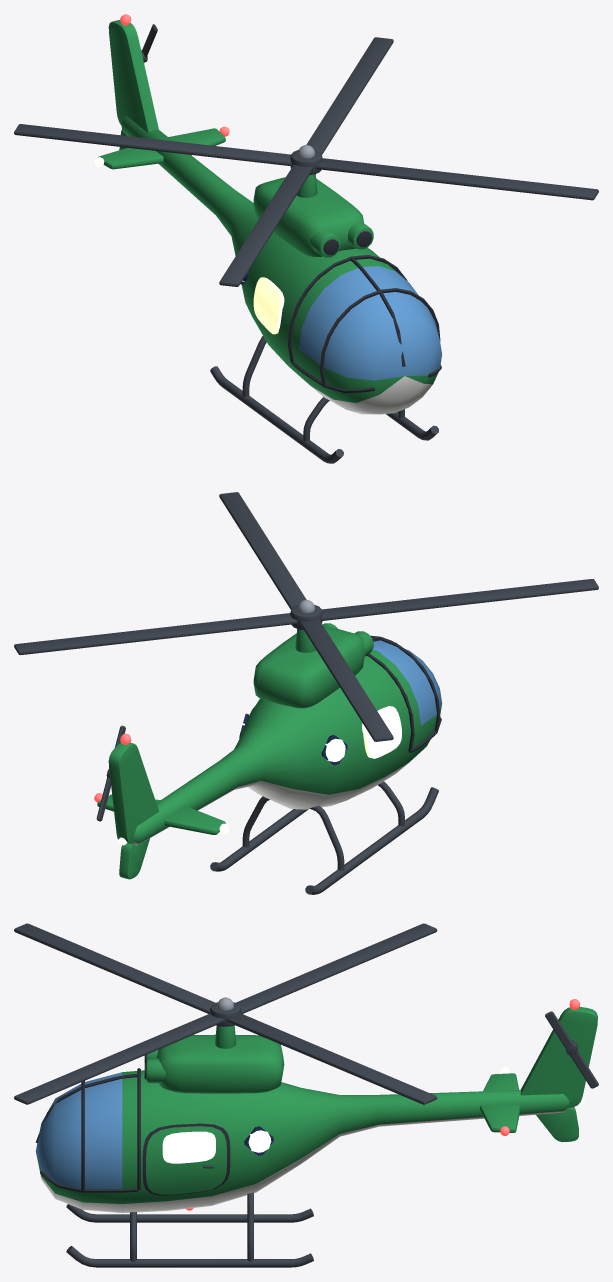
The model's file is helicoptero_verde.glb.
The picture shows the model from 3 angles, top to bottom: view 1: azimuth 30°, elevation 25°; view 2: azimuth 150°, elevation 25°; view 3: azimuth 270°, elevation 25°; orthographic projection. The views are drawn at different scales.
Parts seen in each view (by area): view 1: helicoptero_verde, rotor_principal; view 2: helicoptero_verde, rotor_principal; view 3: helicoptero_verde, rotor_principal, porta_cabine, rotor_cauda.
Part boxes in pixels (x1,y1,x2,y2): helicoptero_verde: (94, 20, 442, 463); rotor_principal: (14, 37, 598, 286); helicoptero_verde: (94, 623, 442, 894); rotor_principal: (14, 492, 598, 741); helicoptero_verde: (35, 1007, 597, 1267); rotor_principal: (14, 923, 437, 1104); porta_cabine: (146, 1126, 226, 1194); rotor_cauda: (545, 1011, 598, 1088).
Size of the model in its own units: 7.58 by 4.87 by 10.47.
6 materials, 1 textured.
